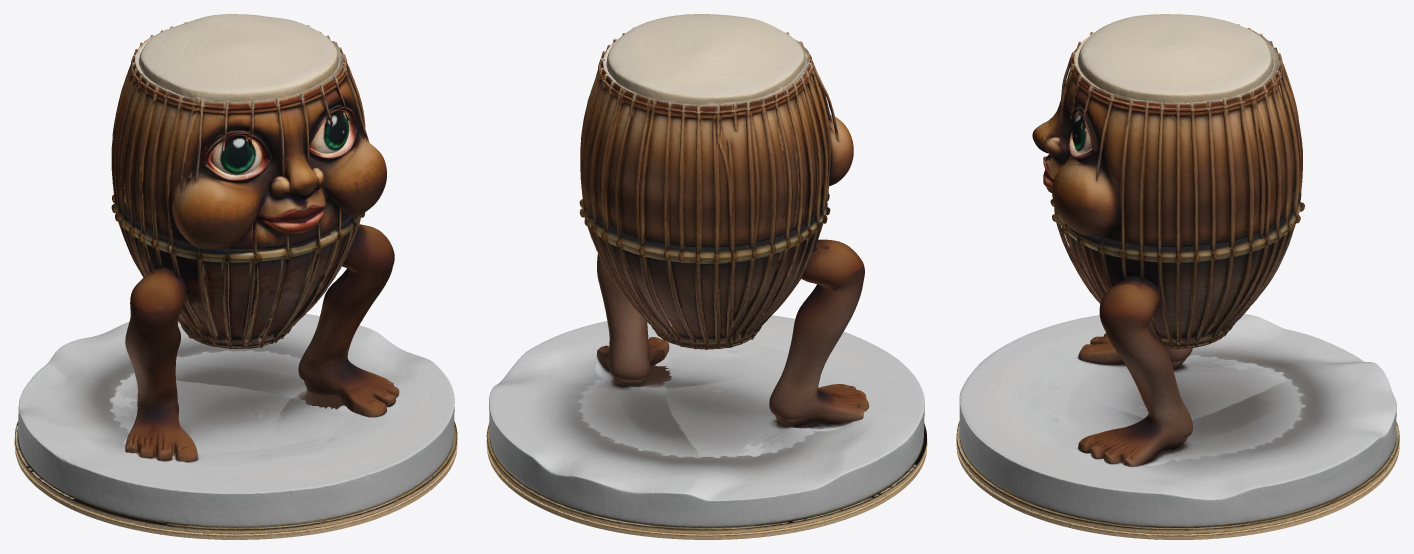
The model's file is hitem3d_optimized.glb.
3 renders of one model, left to right at view 1: azimuth 30°, elevation 25°; view 2: azimuth 150°, elevation 25°; view 3: azimuth 270°, elevation 25°, orthographic.
Parts seen in each view (by area): view 1: tmpw7v7nnmi.obj; view 2: tmpw7v7nnmi.obj; view 3: tmpw7v7nnmi.obj.
Boxes of the visible parts, x1,y1,x2,y2 form: tmpw7v7nnmi.obj: (14,14,457,539); tmpw7v7nnmi.obj: (486,14,927,539); tmpw7v7nnmi.obj: (956,14,1399,539).
Size of the model in its own units: 1.48 by 1.48 by 1.48.
Materials: 1 (1 with a texture image).
